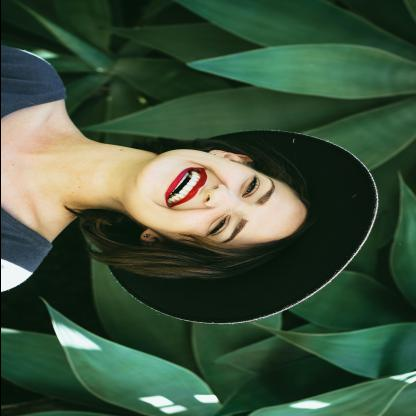Eye: (204, 214, 229, 237), (238, 174, 259, 197)
Mouth: (163, 166, 207, 208)
Nose: (201, 184, 244, 211)
